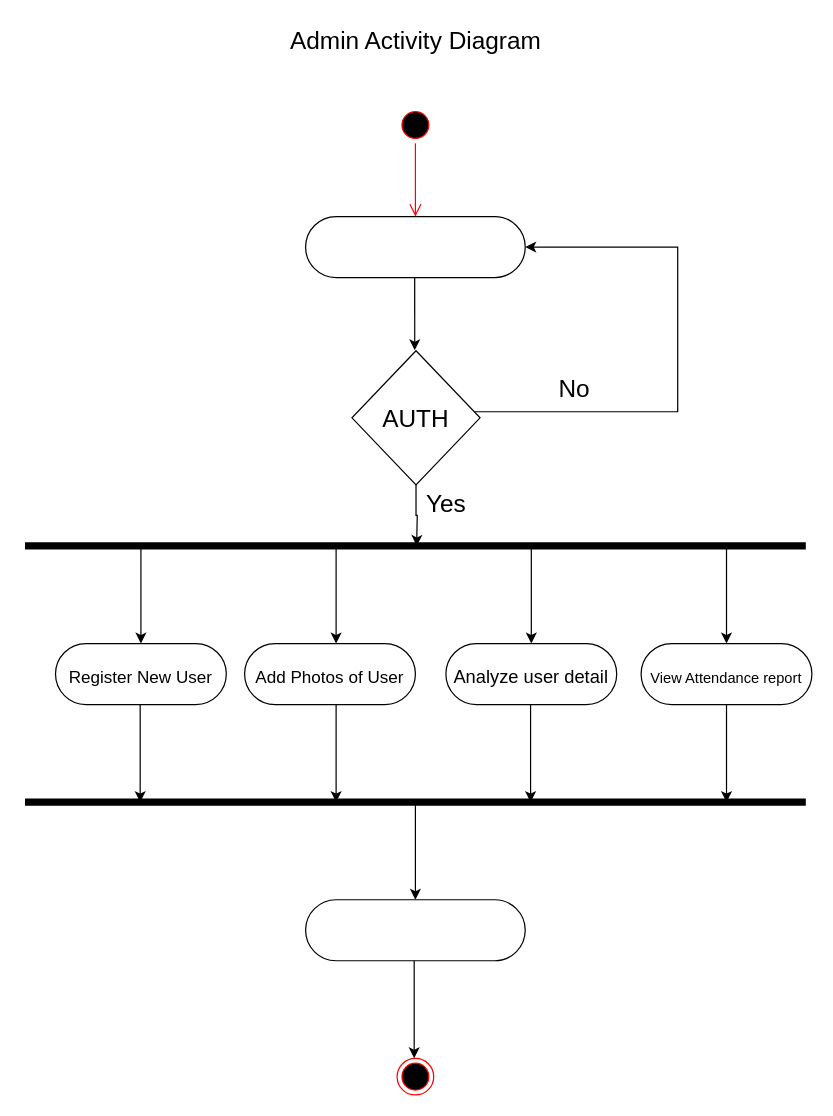
Some shapes in this 833 by 1116 pixel diagram are drawn without their labels. Here are the shapes that lost their labels. From the top down, the centre of each, then its label:
At point 414,246: "Login".
At point 414,930: "Logout".
